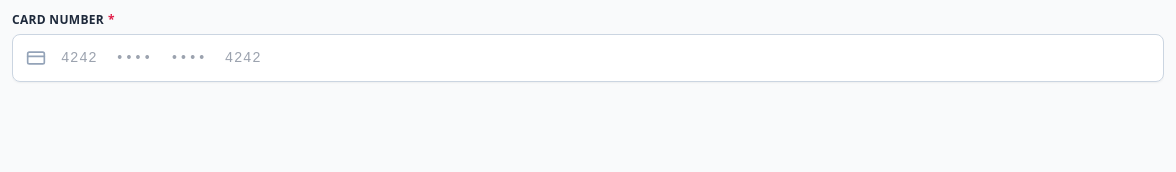
Test: VisaPay Checkout Usability & Field Interactions › should auto-format card number into 4-digit groups as the user types
Change value with unformatted digits
Type "4242424242424242" into the field labelled "Card Number*" at (588,58), box [12,34,1164,82]
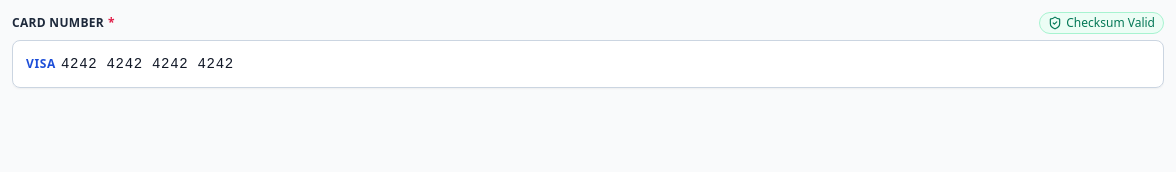
Expected: the field labelled "Card Number*" holds "4242 4242 4242 4242", [12,40,1164,88]
Expected: the text "VISA" is shown, [26,56,56,72]
Expected: the text "Checksum Valid" is shown, [1039,12,1164,34]
